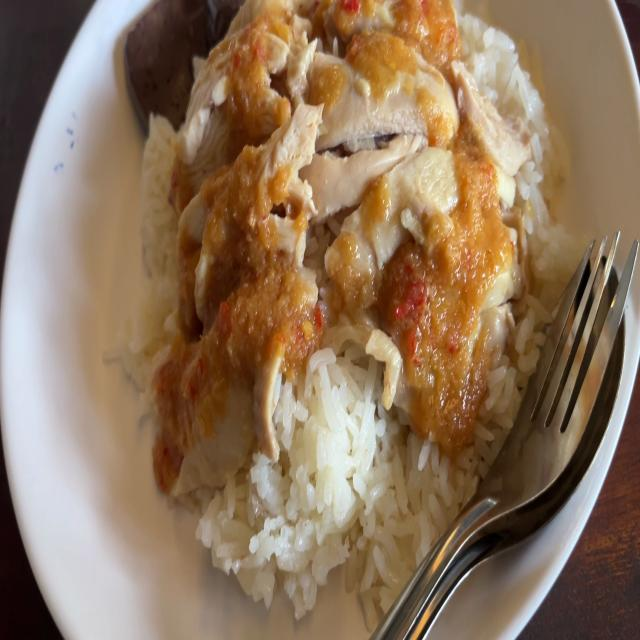boiled_chicken: (188, 3, 498, 440)
boiled_chicken_blood_jelly: (110, 0, 218, 129)
chicken_rice: (123, 0, 572, 619)
